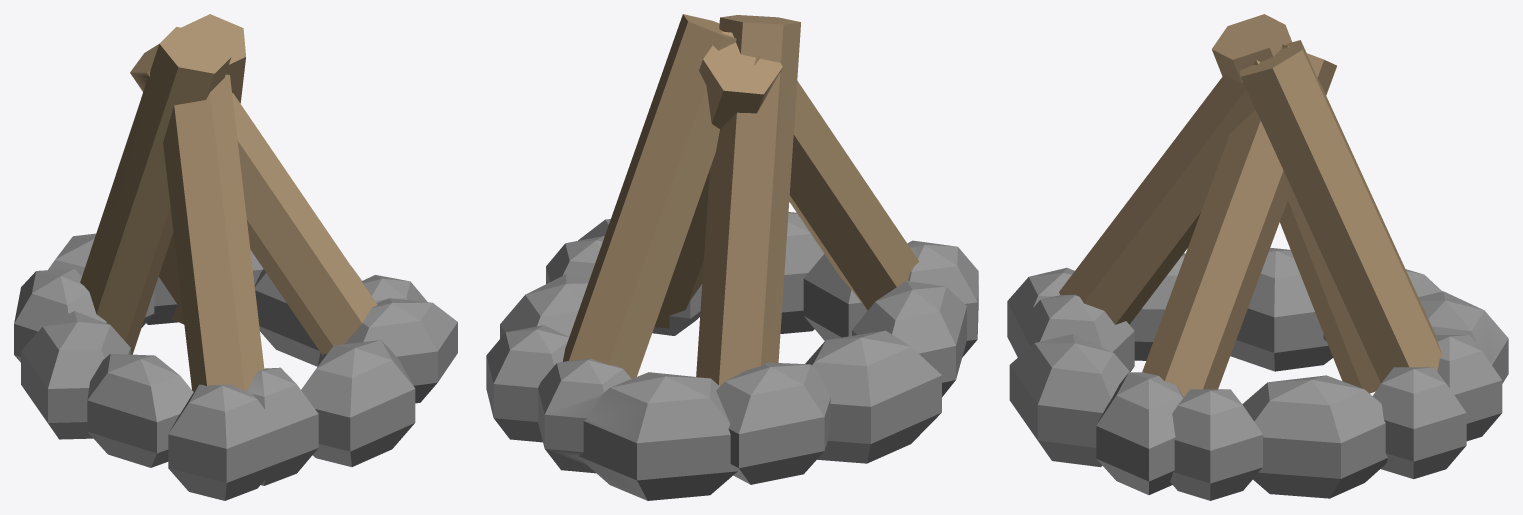
The model's file is FireFinal.fbx.
3 renders of one model, left to right at view 1: azimuth 30°, elevation 25°; view 2: azimuth 150°, elevation 25°; view 3: azimuth 270°, elevation 25°, orthographic. The views are drawn at different scales.
Parts seen in each view (by area): view 1: pSphere14, pCylinder9; view 2: pSphere14, pCylinder9; view 3: pSphere14, pCylinder9.
Part boxes in pixels (x1=…): pSphere14: x1=14, y1=233, x2=457, y2=500; pCylinder9: x1=80, y1=14, x2=377, y2=391; pSphere14: x1=486, y1=212, x2=978, y2=500; pCylinder9: x1=563, y1=14, x2=919, y2=385; pSphere14: x1=1007, y1=248, x2=1508, y2=500; pCylinder9: x1=1059, y1=14, x2=1442, y2=396.
Bounding box in the file's own units: 2.4 × 2.32 × 2.68.
